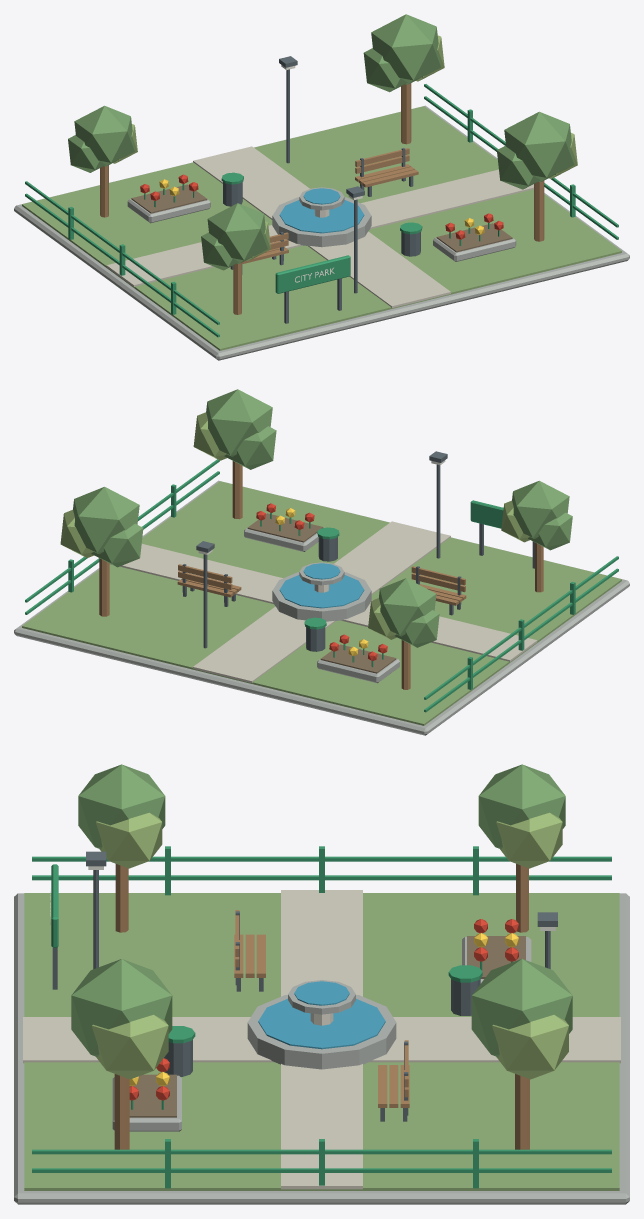
The model's file is Neighborhood_Park.fbx.
3 renders of one model, top to bottom at view 1: azimuth 30°, elevation 25°; view 2: azimuth 150°, elevation 25°; view 3: azimuth 270°, elevation 25°, orthographic. The views are drawn at different scales.
Parts seen in each view (by area): view 1: Lawn, Main Park Walk, Park Base, Cross Park Walk, Faceted Tree Canopy.009, Faceted Tree Canopy.006, Faceted Tree Canopy.003, Faceted Tree Canopy, Fountain Water, Fountain Outer Basin, Green Information Board, Faceted Tree Canopy.007 (+14 smaller); view 2: Lawn, Main Park Walk, Park Base, Cross Park Walk, Faceted Tree Canopy.009, Faceted Tree Canopy.006, Faceted Tree Canopy, Faceted Tree Canopy.003, Fountain Water, Fountain Outer Basin, Faceted Tree Canopy.007, Faceted Tree Canopy.010 (+18 smaller); view 3: Lawn, Cross Park Walk, Park Base, Main Park Walk, Faceted Tree Canopy.009, Faceted Tree Canopy.006, Faceted Tree Canopy.003, Faceted Tree Canopy, Fountain Water, Fountain Outer Basin, Faceted Tree Canopy.008, Faceted Tree Canopy.011 (+18 smaller).
Boxes of the visible parts, bbox=[...] form: Lawn: bbox=[22, 106, 621, 350]; Main Park Walk: bbox=[193, 146, 450, 308]; Park Base: bbox=[14, 105, 629, 360]; Cross Park Walk: bbox=[106, 169, 533, 286]; Faceted Tree Canopy.009: bbox=[371, 14, 441, 84]; Faceted Tree Canopy.006: bbox=[504, 111, 574, 182]; Faceted Tree Canopy.003: bbox=[74, 105, 134, 166]; Faceted Tree Canopy: bbox=[207, 203, 267, 263]; Fountain Water: bbox=[279, 200, 364, 233]; Fountain Outer Basin: bbox=[272, 197, 371, 247]; Green Information Board: bbox=[275, 255, 350, 293]; Faceted Tree Canopy.007: bbox=[496, 145, 540, 189]; Lawn: bbox=[22, 481, 621, 725]; Main Park Walk: bbox=[193, 521, 450, 683]; Park Base: bbox=[14, 480, 629, 735]; Cross Park Walk: bbox=[110, 544, 537, 661]; Faceted Tree Canopy.009: bbox=[73, 486, 139, 554]; Faceted Tree Canopy.006: bbox=[206, 389, 272, 456]; Faceted Tree Canopy: bbox=[512, 480, 569, 538]; Faceted Tree Canopy.003: bbox=[379, 578, 436, 636]; Fountain Water: bbox=[279, 575, 364, 608]; Fountain Outer Basin: bbox=[272, 572, 371, 621]; Faceted Tree Canopy.007: bbox=[224, 426, 276, 469]; Faceted Tree Canopy.010: bbox=[91, 523, 143, 567]; Lawn: bbox=[24, 893, 619, 1190]; Cross Park Walk: bbox=[281, 890, 362, 1189]; Park Base: bbox=[14, 893, 629, 1204]; Main Park Walk: bbox=[23, 1017, 620, 1063]; Faceted Tree Canopy.009: bbox=[471, 959, 572, 1056]; Faceted Tree Canopy.006: bbox=[71, 959, 172, 1057]; Faceted Tree Canopy.003: bbox=[478, 764, 565, 849]; Faceted Tree Canopy: bbox=[78, 764, 165, 849]; Fountain Water: bbox=[258, 998, 385, 1049]; Fountain Outer Basin: bbox=[247, 995, 396, 1069]; Faceted Tree Canopy.008: bbox=[92, 1014, 168, 1079]; Faceted Tree Canopy.011: bbox=[492, 1015, 568, 1079].
Size of the model in its own units: 1400 by 444 by 1200.
